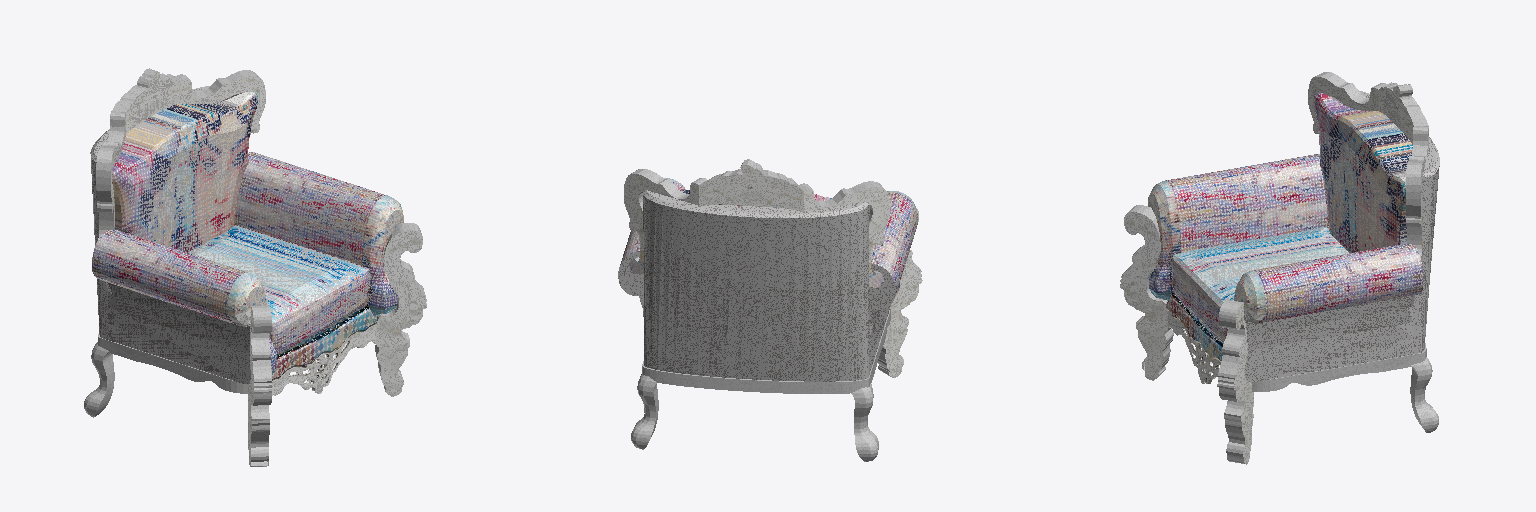
3 views of the same model, side by side, from view 1: azimuth 30°, elevation 25°; view 2: azimuth 150°, elevation 25°; view 3: azimuth 270°, elevation 25° (orthographic).
Parts seen in each view (by area): view 1: mesh1_mesh1-geometry, mesh7_mesh7-geometry, mesh22.001_mesh22-geometry, mesh29.001_mesh29-geometry, mesh28.001_mesh28-geometry, mesh16.001_mesh16-geometry, mesh26.001_mesh26-geometry, mesh21.001_mesh21-geometry, mesh8_mesh8-geometry, mesh3_mesh3-geometry, mesh20.001_mesh20-geometry, mesh12_mesh12-geometry (+8 smaller); view 2: mesh13_mesh13-geometry, mesh5_mesh5-geometry, mesh12_mesh12-geometry, mesh28.001_mesh28-geometry, mesh24.001_mesh24-geometry, mesh19.001_mesh19-geometry, mesh31.001_mesh31-geometry, mesh29.001_mesh29-geometry, mesh34.001_mesh34-geometry, mesh33.001_mesh33-geometry, mesh23.001_mesh23-geometry, mesh32.001_mesh32-geometry (+1 smaller); view 3: mesh1_mesh1-geometry, mesh28.001_mesh28-geometry, mesh23.001_mesh23-geometry, mesh22.001_mesh22-geometry, mesh7_mesh7-geometry, mesh25.001_mesh25-geometry, mesh17.001_mesh17-geometry, mesh13_mesh13-geometry, mesh27.001_mesh27-geometry, mesh12_mesh12-geometry, mesh32.001_mesh32-geometry, mesh15.001_mesh15-geometry (+9 smaller).
Part boxes in pixels (x1,y1,x2,y2): mesh1_mesh1-geometry: (112,91,257,252); mesh7_mesh7-geometry: (188,225,368,355); mesh22.001_mesh22-geometry: (234,152,387,265); mesh29.001_mesh29-geometry: (106,282,250,383); mesh28.001_mesh28-geometry: (92,230,247,324); mesh16.001_mesh16-geometry: (376,230,426,396); mesh26.001_mesh26-geometry: (249,305,271,466); mesh21.001_mesh21-geometry: (362,196,403,314); mesh8_mesh8-geometry: (272,307,376,380); mesh3_mesh3-geometry: (272,324,375,395); mesh20.001_mesh20-geometry: (96,111,125,238); mesh12_mesh12-geometry: (98,315,377,393); mesh13_mesh13-geometry: (643,190,869,381); mesh5_mesh5-geometry: (699,165,803,211); mesh12_mesh12-geometry: (642,309,890,393); mesh28.001_mesh28-geometry: (871,192,917,295); mesh24.001_mesh24-geometry: (883,208,922,377); mesh19.001_mesh19-geometry: (804,187,889,287); mesh31.001_mesh31-geometry: (624,174,698,274); mesh29.001_mesh29-geometry: (870,264,895,370); mesh34.001_mesh34-geometry: (851,384,878,461); mesh33.001_mesh33-geometry: (631,374,658,449); mesh23.001_mesh23-geometry: (618,251,643,316); mesh32.001_mesh32-geometry: (631,169,706,261); mesh1_mesh1-geometry: (1314,93,1412,252); mesh28.001_mesh28-geometry: (1165,154,1328,252); mesh23.001_mesh23-geometry: (1245,295,1414,381); mesh22.001_mesh22-geometry: (1253,243,1422,323); mesh7_mesh7-geometry: (1172,227,1348,343); mesh25.001_mesh25-geometry: (1120,212,1167,380); mesh17.001_mesh17-geometry: (1217,300,1247,463); mesh13_mesh13-geometry: (1328,90,1439,353); mesh27.001_mesh27-geometry: (1148,181,1180,300); mesh12_mesh12-geometry: (1252,343,1426,391); mesh32.001_mesh32-geometry: (1406,126,1428,257); mesh15.001_mesh15-geometry: (1234,303,1253,464).
Bounding box in the file's own units: 0.591 × 0.5799 × 0.5607.
4 materials, 1 textured.